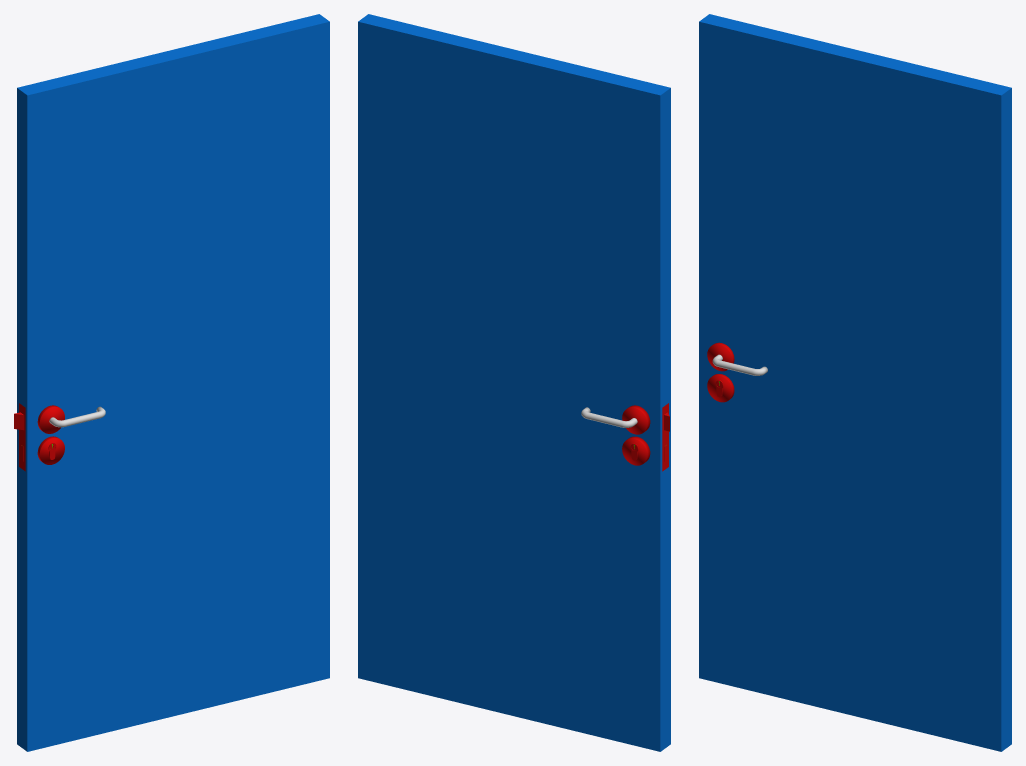
Rendered from Door.fbx.
3 views of the same model, side by side, from view 1: azimuth 30°, elevation 25°; view 2: azimuth 150°, elevation 25°; view 3: azimuth 330°, elevation 25° (orthographic).
Parts seen in each view (by area): view 1: Door; view 2: Door; view 3: Door.
Boxes of the visible parts, x1=… form: Door: x1=14, y1=14, x2=329, y2=751; Door: x1=358, y1=14, x2=670, y2=751; Door: x1=699, y1=14, x2=1011, y2=751.
Bounding box in the file's own units: 99.23 × 202 × 17.42.
